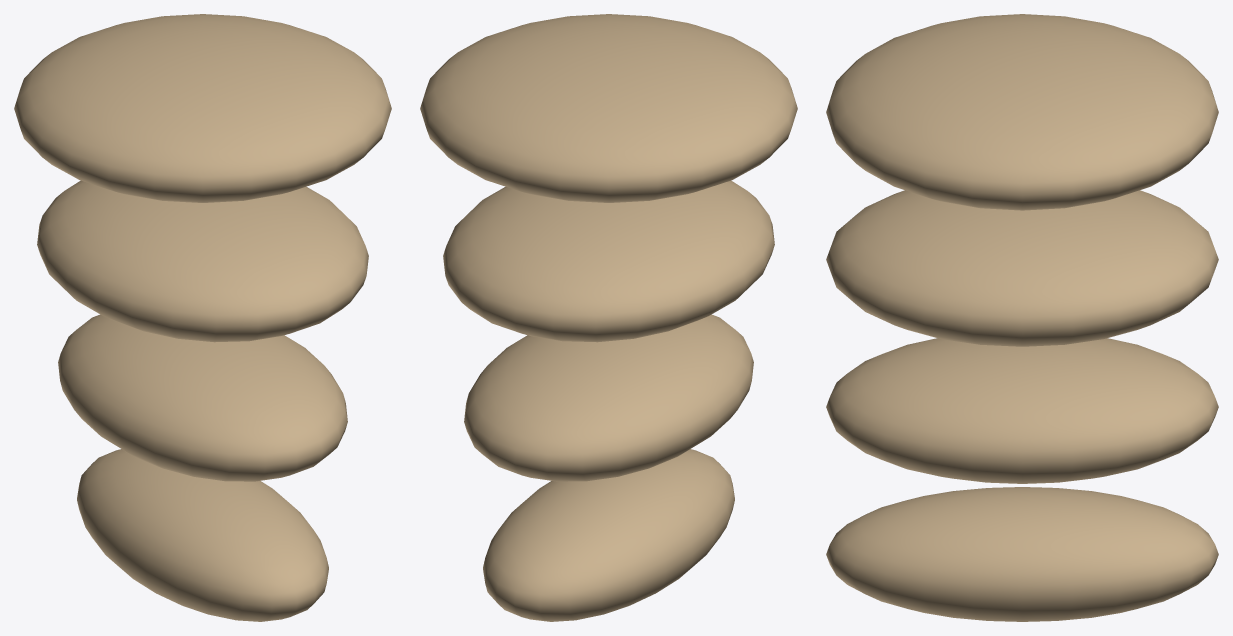
The model's file is coccyx.glb.
The picture shows the model from 3 angles, left to right: view 1: azimuth 30°, elevation 25°; view 2: azimuth 150°, elevation 25°; view 3: azimuth 270°, elevation 25°; orthographic projection. The views are drawn at different scales.
Visible parts, largest first — view 1: coccyx:segment-1, coccyx:segment-2, coccyx:segment-3, coccyx:segment-4; view 2: coccyx:segment-1, coccyx:segment-2, coccyx:segment-3, coccyx:segment-4; view 3: coccyx:segment-1, coccyx:segment-2, coccyx:segment-3, coccyx:segment-4.
Part boxes in pixels (x1,y1,x2,y2): coccyx:segment-1: (14, 14, 391, 202); coccyx:segment-2: (37, 180, 368, 342); coccyx:segment-3: (58, 314, 347, 481); coccyx:segment-4: (77, 449, 328, 621); coccyx:segment-1: (420, 14, 797, 202); coccyx:segment-2: (443, 180, 774, 342); coccyx:segment-3: (464, 314, 753, 481); coccyx:segment-4: (483, 449, 734, 621); coccyx:segment-1: (826, 14, 1218, 210); coccyx:segment-2: (826, 190, 1218, 346); coccyx:segment-3: (826, 338, 1218, 483); coccyx:segment-4: (826, 487, 1218, 621).
Bounding box in the file's own units: 0.0871 × 0.134 × 0.0871.
